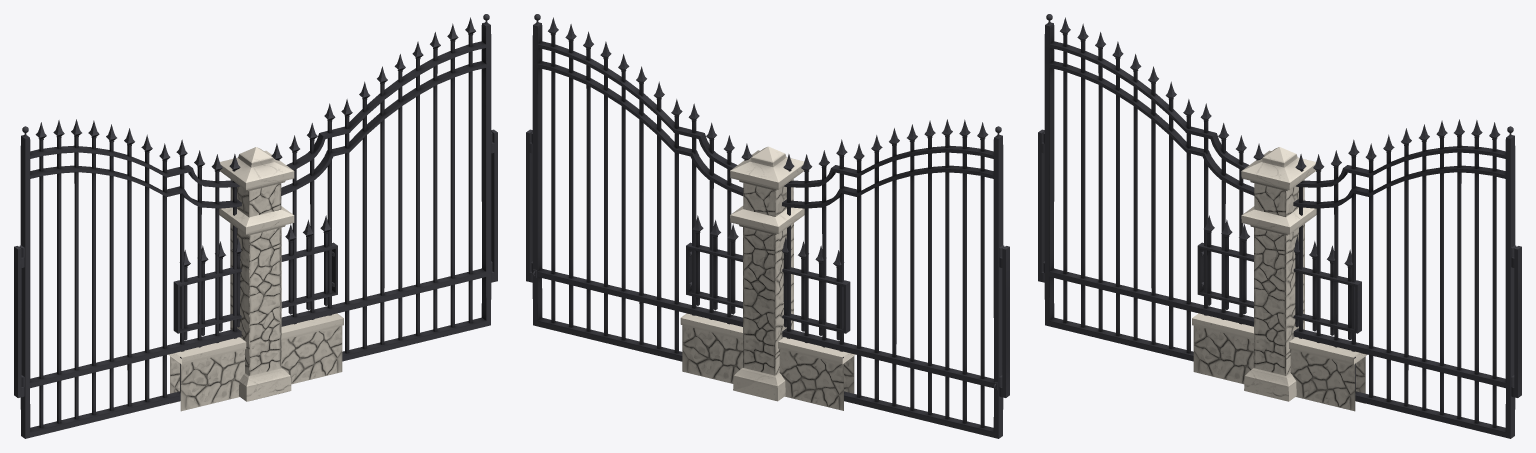
The model's file is compound_fence.glb.
3 views of the same model, side by side, from view 1: azimuth 30°, elevation 25°; view 2: azimuth 150°, elevation 25°; view 3: azimuth 330°, elevation 25° (orthographic).
Parts seen in each view (by area): view 1: leafL__Metal, leafR__Metal, pillar__Wall, panel__Wall, panel__Metal, gatepillar__Wall, gatestatic__Metal; view 2: leafL__Metal, leafR__Metal, panel__Wall, pillar__Wall, panel__Metal, gatepillar__Wall, gatestatic__Metal; view 3: leafL__Metal, leafR__Metal, pillar__Wall, panel__Wall, panel__Metal, gatepillar__Wall, gatestatic__Metal.
Part boxes in pixels (bbox=[...]): leafL__Metal: bbox=[271, 14, 491, 361]; leafR__Metal: bbox=[20, 119, 241, 438]; pillar__Wall: bbox=[219, 206, 294, 401]; panel__Wall: bbox=[168, 313, 343, 411]; panel__Metal: bbox=[173, 215, 337, 340]; gatepillar__Wall: bbox=[219, 147, 294, 401]; gatestatic__Metal: bbox=[14, 129, 497, 397]; leafL__Metal: bbox=[532, 14, 752, 361]; leafR__Metal: bbox=[782, 119, 1003, 438]; panel__Wall: bbox=[680, 313, 855, 410]; pillar__Wall: bbox=[730, 206, 804, 401]; panel__Metal: bbox=[686, 215, 850, 340]; gatepillar__Wall: bbox=[730, 146, 804, 400]; gatestatic__Metal: bbox=[526, 129, 1009, 397]; leafL__Metal: bbox=[1293, 119, 1515, 438]; leafR__Metal: bbox=[1044, 14, 1264, 361]; pillar__Wall: bbox=[1241, 206, 1316, 401]; panel__Wall: bbox=[1192, 313, 1367, 411]; panel__Metal: bbox=[1197, 215, 1361, 339]; gatepillar__Wall: bbox=[1241, 147, 1316, 401]; gatestatic__Metal: bbox=[1038, 129, 1521, 397].
Size of the model in its own units: 4.81 by 3.05 by 0.4864.
2 materials, 2 textured.
